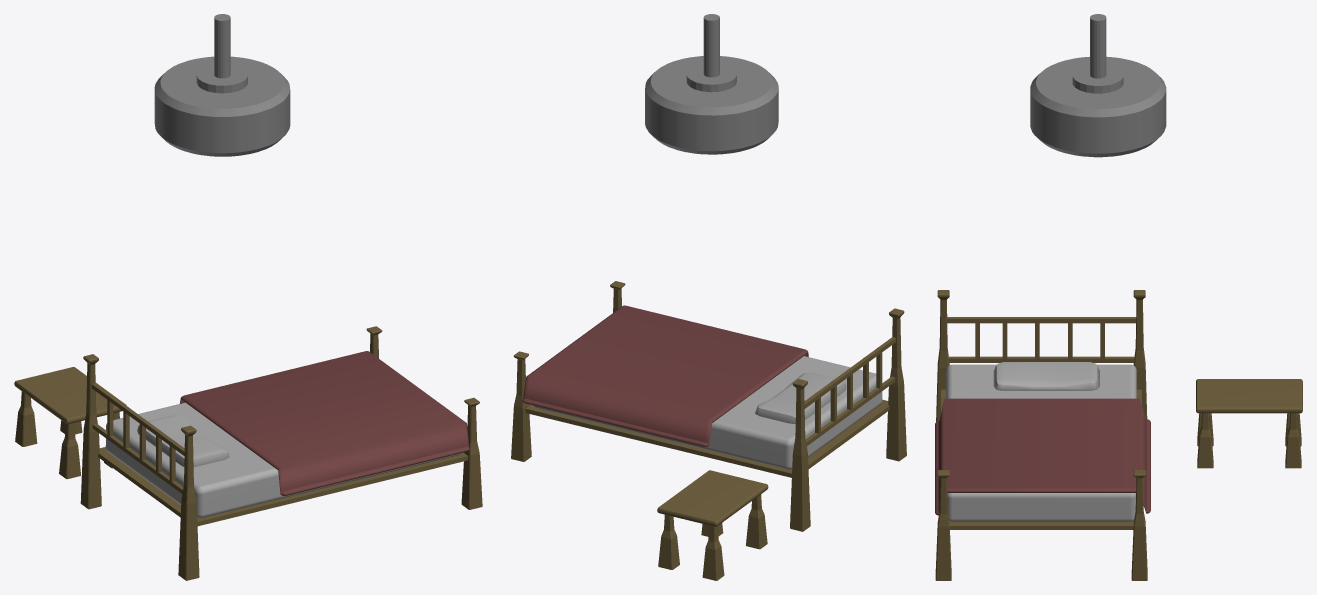
The model's file is bed.fbx.
The picture shows the model from 3 angles, left to right: view 1: azimuth 30°, elevation 25°; view 2: azimuth 150°, elevation 25°; view 3: azimuth 270°, elevation 25°; orthographic projection.
Visible parts, largest first — view 1: blanket, pCylinder1, mattress, pCube2, pCube18, pCube3, pCube1, pillow, pCube4, pCube14, pCube17, pCube6 (+1 smaller); view 2: blanket, pCylinder1, mattress, pCube18, pCube2, pCube1, pCube3, pillow, pCube5, pCube17, pCube16, pCube14 (+2 smaller); view 3: blanket, pCylinder1, mattress, pCube18, pillow, pCube2, pCube4, pCube5, pCube6, pCube7, pCube1, pCube3 (+2 smaller).
Part boxes in pixels (left/top/right/bottom): blanket: left=179, top=351, right=469, bottom=495; pCylinder1: left=154, top=14, right=290, bottom=156; mattress: left=106, top=402, right=460, bottom=517; pCube2: left=98, top=447, right=468, bottom=526; pCube18: left=14, top=367, right=126, bottom=424; pCube3: left=178, top=425, right=199, bottom=580; pCube1: left=80, top=354, right=101, bottom=509; pillow: left=137, top=415, right=229, bottom=467; pCube4: left=461, top=397, right=482, bottom=509; pCube14: left=59, top=423, right=80, bottom=479; pCube17: left=15, top=391, right=37, bottom=446; pCube6: left=91, top=383, right=184, bottom=455; blanket: left=522, top=305, right=808, bottom=446; pCylinder1: left=645, top=14, right=778, bottom=154; mattress: left=532, top=356, right=882, bottom=469; pCube18: left=657, top=470, right=768, bottom=526; pCube2: left=525, top=399, right=889, bottom=477; pCube1: left=790, top=379, right=810, bottom=531; pCube3: left=886, top=308, right=906, bottom=461; pillow: left=755, top=372, right=846, bottom=423; pCube5: left=511, top=351, right=531, bottom=461; pCube17: left=702, top=525, right=724, bottom=580; pCube16: left=658, top=514, right=679, bottom=569; pCube14: left=746, top=494, right=767, bottom=549; blanket: left=935, top=398, right=1150, bottom=515; pCylinder1: left=1030, top=14, right=1166, bottom=157; mattress: left=946, top=364, right=1136, bottom=521; pCube18: left=1196, top=379, right=1302, bottom=413; pillow: left=993, top=362, right=1099, bottom=390; pCube2: left=941, top=389, right=1141, bottom=529; pCube4: left=935, top=470, right=951, bottom=580; pCube5: left=1131, top=470, right=1147, bottom=580; pCube6: left=947, top=317, right=1136, bottom=323; pCube7: left=948, top=356, right=1134, bottom=362; pCube1: left=1133, top=290, right=1147, bottom=419; pCube3: left=936, top=290, right=949, bottom=421.
Bounding box in the file's own units: 15.79 × 24.18 × 16.88.
